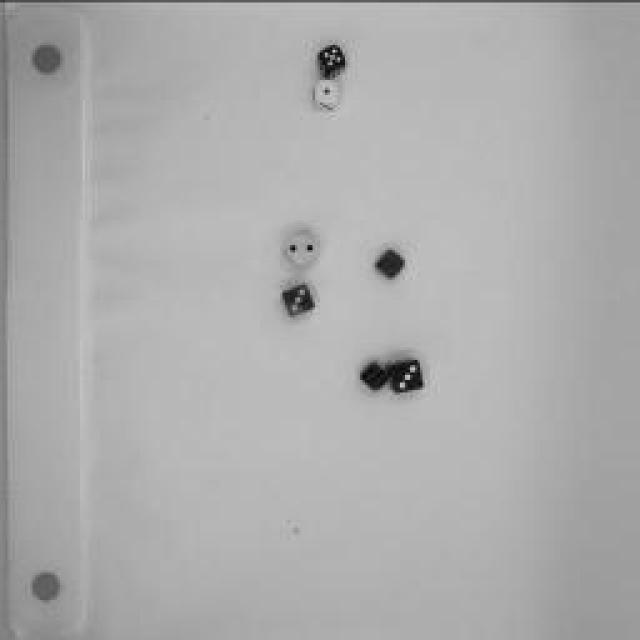dice_1: (309, 75, 341, 115)
dice_2: (278, 230, 322, 270)
dice_3: (276, 280, 322, 322), (385, 354, 427, 398)
dice_4: (374, 242, 408, 286)
dice_5: (310, 43, 350, 75)
dice_6: (358, 354, 388, 396)
